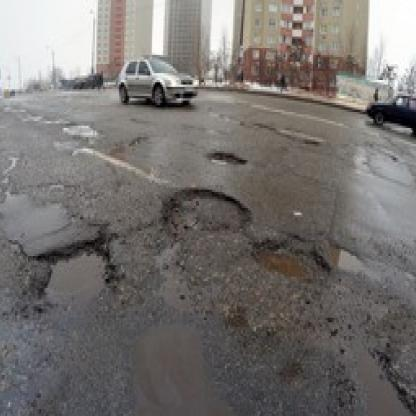pothole: (40, 240, 115, 315), (354, 347, 416, 416), (170, 185, 250, 233), (251, 238, 321, 281), (325, 238, 364, 277), (209, 151, 249, 169), (303, 140, 318, 147)
